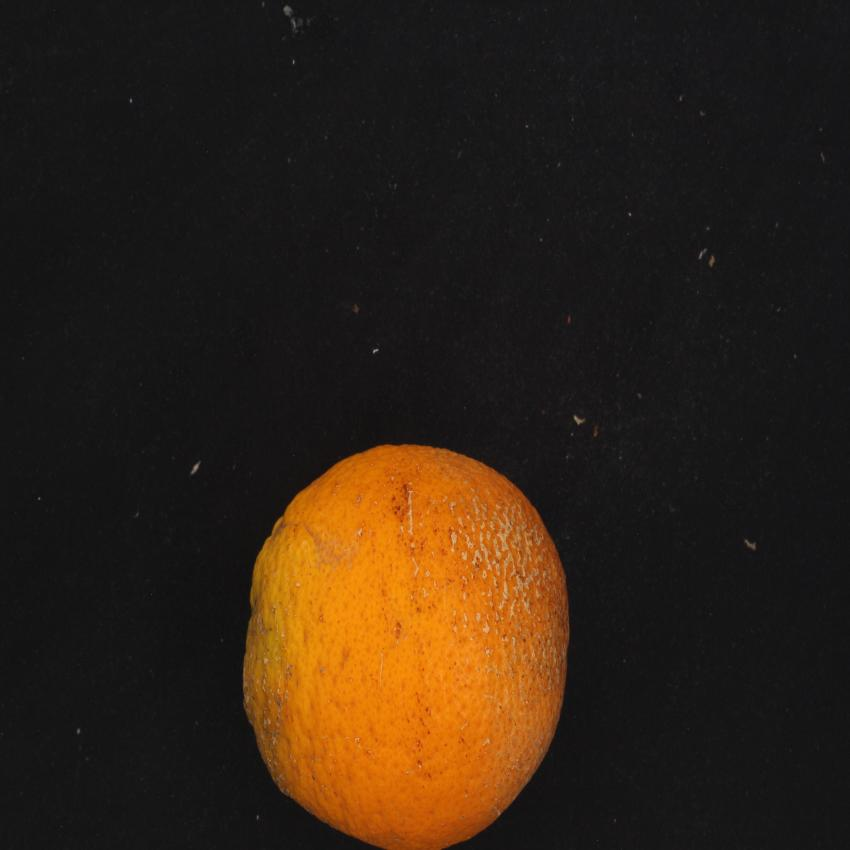Mal estado: (236, 430, 588, 850)
